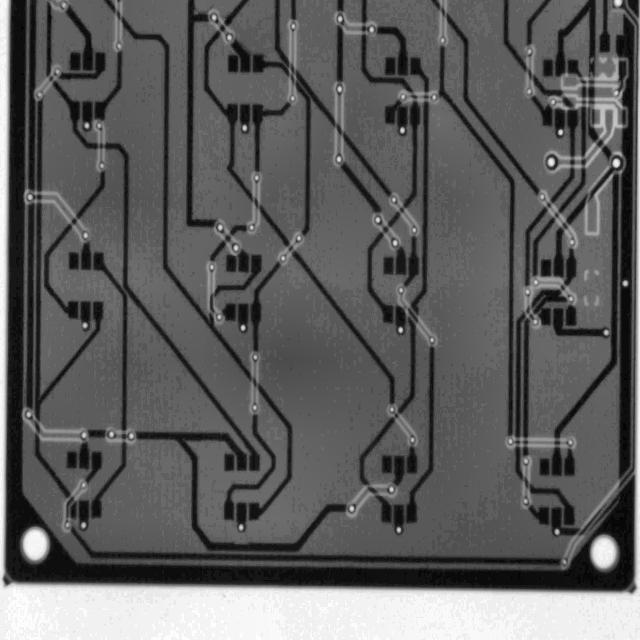Both: (589, 535, 618, 570), (23, 528, 49, 562), (543, 152, 562, 172), (609, 154, 626, 173), (228, 240, 243, 255), (371, 213, 384, 227), (78, 229, 92, 242), (105, 428, 118, 441), (389, 237, 402, 250), (208, 11, 221, 24), (550, 526, 563, 538), (346, 502, 358, 515), (333, 153, 345, 166), (336, 12, 346, 27), (334, 83, 345, 96), (395, 324, 406, 336), (250, 402, 261, 414), (536, 191, 548, 202), (224, 31, 235, 43), (82, 121, 93, 133), (427, 335, 438, 346), (398, 92, 409, 103), (238, 323, 249, 334), (278, 253, 289, 264), (34, 89, 45, 100), (52, 66, 63, 77), (79, 519, 89, 531), (294, 233, 304, 245), (114, 40, 124, 52), (394, 525, 404, 536), (408, 434, 418, 445), (80, 321, 90, 332), (524, 86, 534, 97), (367, 24, 377, 35), (245, 223, 256, 233), (240, 124, 250, 135), (63, 520, 73, 530), (530, 318, 540, 328), (438, 35, 448, 45), (523, 286, 532, 297), (568, 237, 577, 248), (430, 92, 439, 103), (251, 352, 260, 363), (253, 173, 262, 184), (216, 222, 225, 233), (612, 0, 624, 8), (80, 429, 88, 441), (387, 484, 396, 494), (396, 285, 405, 295), (79, 480, 88, 490), (127, 431, 136, 441), (555, 129, 564, 139), (525, 47, 534, 57), (611, 88, 620, 98), (602, 328, 610, 339), (566, 438, 575, 447), (567, 295, 576, 304), (621, 279, 630, 288), (398, 127, 407, 136), (289, 22, 298, 31), (25, 193, 34, 202), (560, 557, 568, 567), (24, 410, 32, 420), (390, 195, 398, 205), (388, 405, 396, 414), (98, 161, 106, 170), (522, 496, 529, 506), (411, 225, 418, 235), (209, 263, 216, 273), (523, 457, 530, 466), (549, 98, 556, 107), (216, 313, 223, 322), (289, 94, 296, 103), (532, 278, 539, 286), (507, 437, 513, 445), (96, 122, 102, 130)
L1: (103, 391, 351, 602), (352, 55, 454, 525), (432, 39, 540, 442), (30, 98, 107, 519), (68, 526, 563, 590), (551, 170, 621, 476), (515, 244, 576, 525), (530, 57, 596, 282), (491, 288, 570, 459), (33, 162, 108, 320), (253, 54, 311, 238), (537, 156, 617, 281), (92, 252, 127, 519), (185, 0, 218, 227), (222, 409, 283, 526), (226, 87, 293, 176), (556, 475, 625, 551), (406, 343, 434, 522), (82, 48, 138, 125), (238, 257, 282, 354), (336, 161, 385, 219), (204, 219, 251, 266), (63, 4, 94, 72), (376, 24, 410, 78), (520, 89, 562, 131), (26, 418, 82, 448), (553, 308, 602, 337), (57, 52, 106, 80), (401, 237, 421, 290), (229, 38, 252, 73), (380, 96, 403, 127), (615, 34, 627, 92), (524, 503, 552, 526), (84, 452, 102, 484), (336, 23, 343, 86), (392, 456, 405, 488), (564, 445, 576, 476), (235, 248, 250, 272), (395, 246, 407, 275), (535, 307, 552, 326), (219, 302, 236, 321), (78, 440, 89, 468), (407, 444, 417, 473), (81, 241, 91, 270), (565, 303, 576, 326), (239, 104, 251, 125), (80, 301, 92, 321), (554, 109, 565, 130), (82, 102, 93, 123), (395, 306, 406, 326), (78, 500, 89, 520), (397, 107, 408, 127), (237, 304, 248, 324), (384, 57, 396, 75), (394, 505, 404, 526), (236, 503, 247, 522), (541, 260, 552, 279), (228, 54, 239, 73), (70, 53, 81, 71), (226, 255, 237, 272), (552, 508, 562, 525), (382, 456, 392, 473), (67, 451, 77, 468), (543, 59, 553, 76), (540, 459, 550, 475), (69, 252, 78, 269), (225, 454, 234, 471), (384, 258, 393, 274), (87, 431, 108, 437), (291, 0, 296, 23), (236, 522, 246, 533)
L2: (566, 2, 640, 560), (556, 103, 624, 178), (31, 184, 89, 238), (580, 163, 616, 234), (555, 95, 628, 125), (563, 61, 627, 93), (397, 293, 431, 340), (542, 198, 576, 240), (349, 480, 389, 508), (60, 486, 82, 521), (538, 281, 571, 297), (394, 201, 415, 226), (206, 272, 217, 315), (393, 412, 412, 436), (378, 221, 395, 241), (523, 295, 535, 321), (342, 23, 368, 35), (40, 74, 57, 92), (337, 95, 342, 154), (513, 440, 567, 445), (291, 30, 295, 95), (214, 20, 229, 35), (284, 241, 297, 256), (221, 231, 234, 245), (254, 183, 258, 225), (592, 109, 601, 125), (528, 56, 532, 88), (254, 362, 257, 403), (117, 1, 120, 42), (442, 0, 445, 36), (100, 128, 103, 162), (406, 95, 431, 99), (525, 466, 528, 496), (115, 434, 128, 439)
